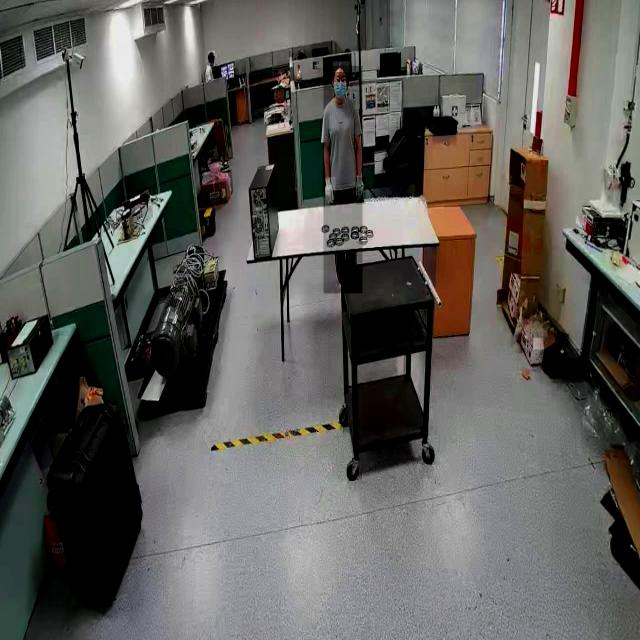face_mask: (332, 74, 351, 101)
hand_glove: (324, 177, 336, 207), (355, 177, 365, 205)
head_nohelmet: (332, 61, 350, 73), (208, 51, 215, 57)
person: (323, 66, 363, 294)
